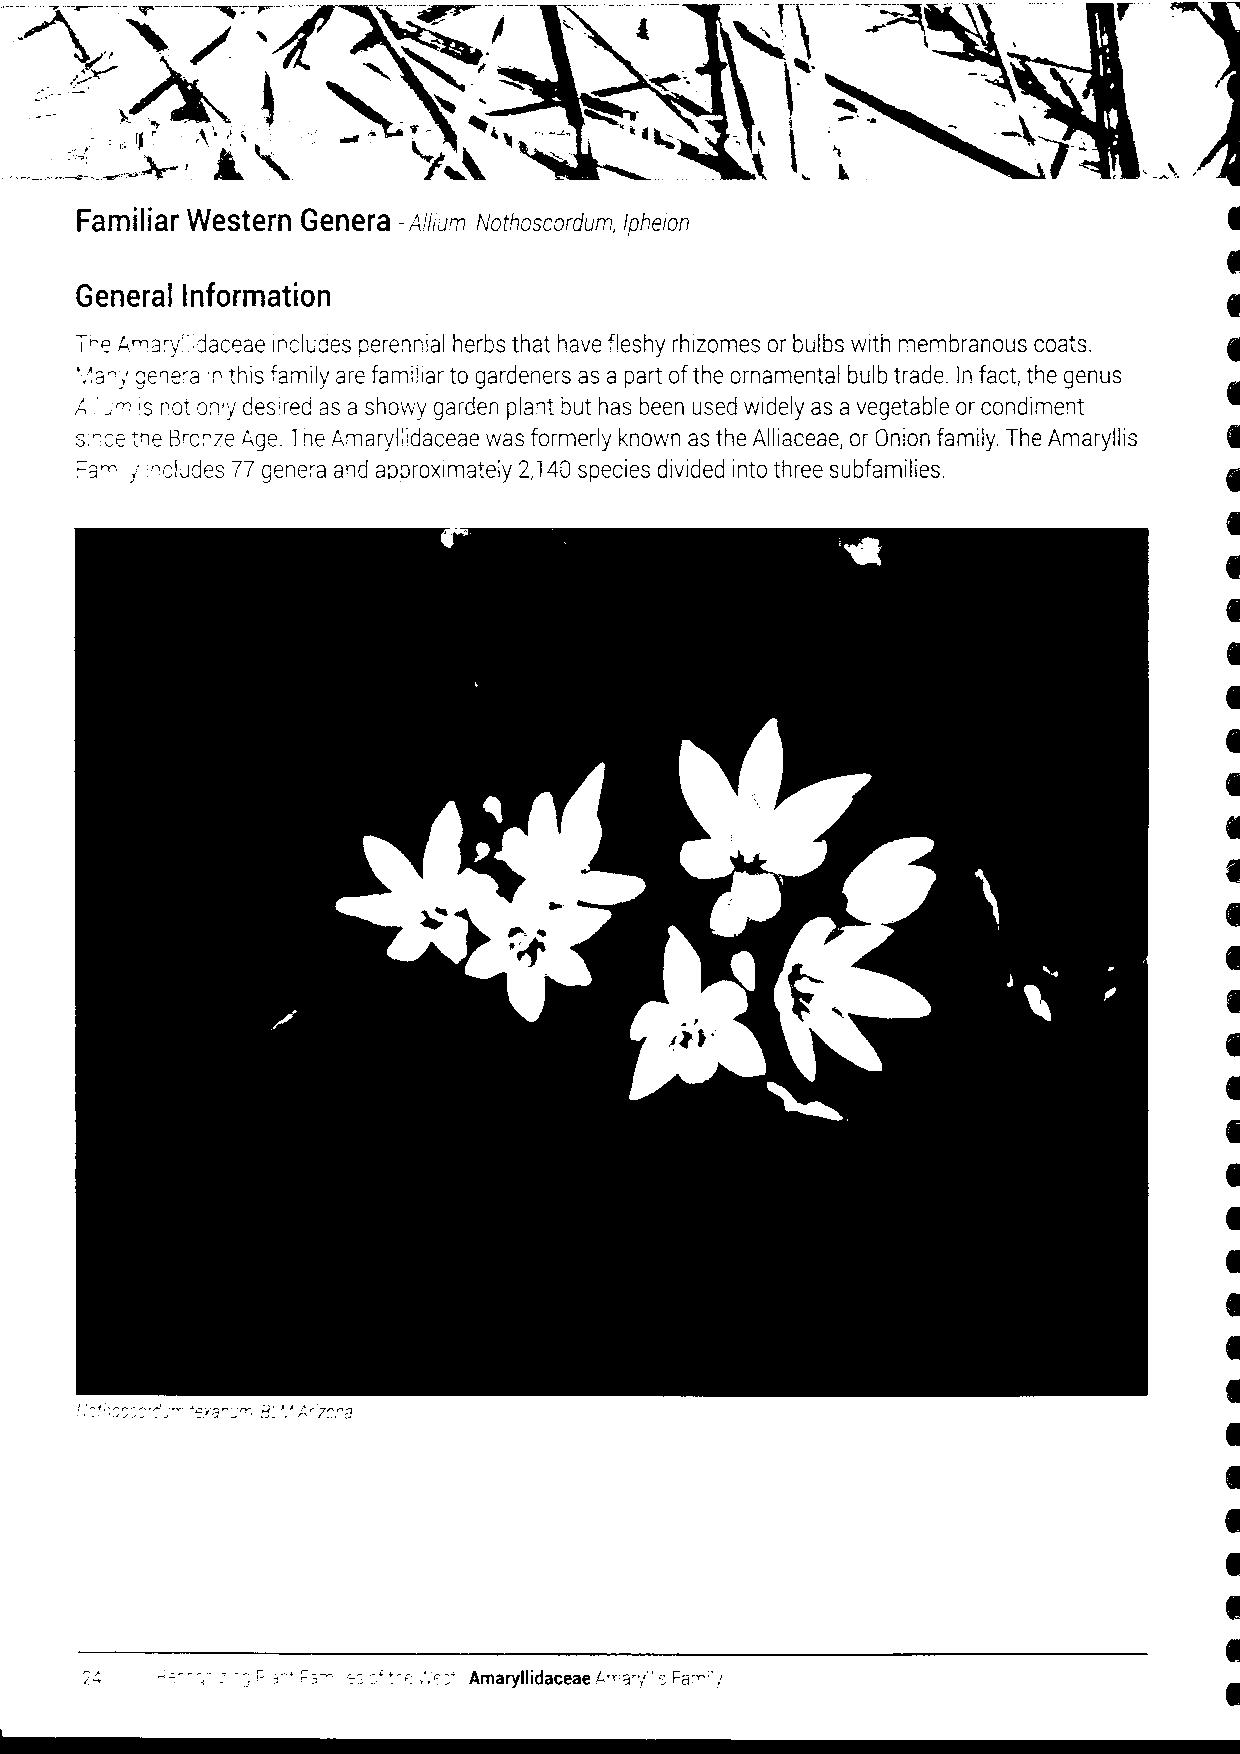chapter: (75, 205, 692, 239), (156, 1665, 723, 1691), (75, 278, 333, 311)
content: (72, 329, 1146, 484)
content_pagenumber: (79, 1668, 103, 1687)
